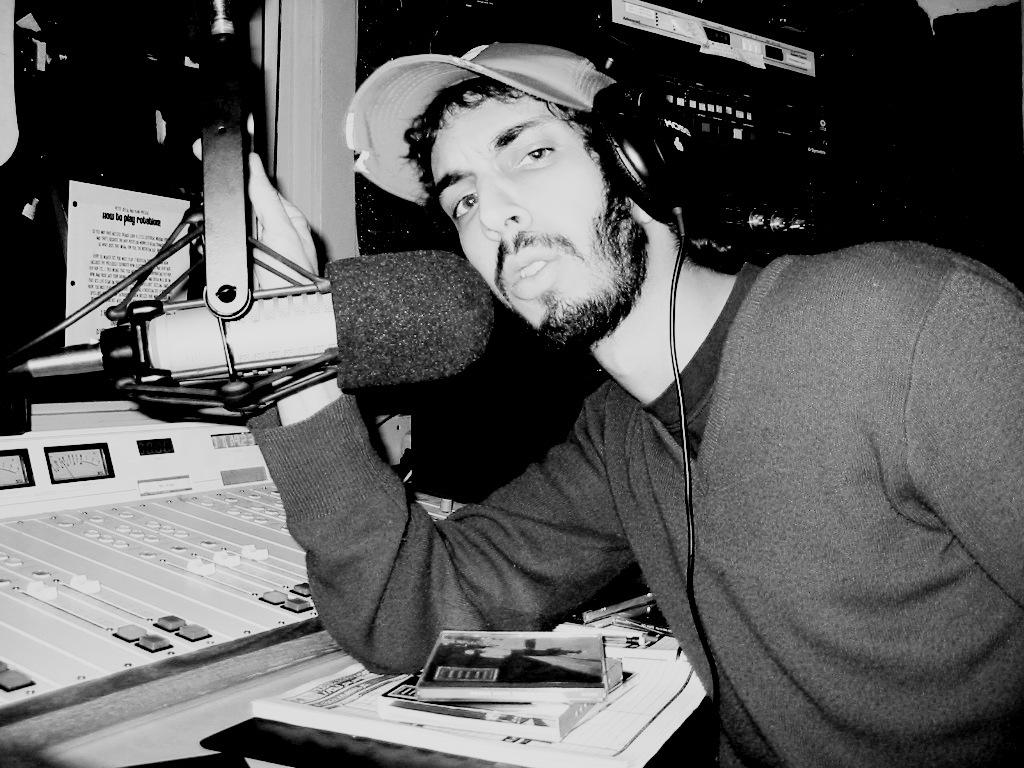Hat: (346, 43, 622, 206)
